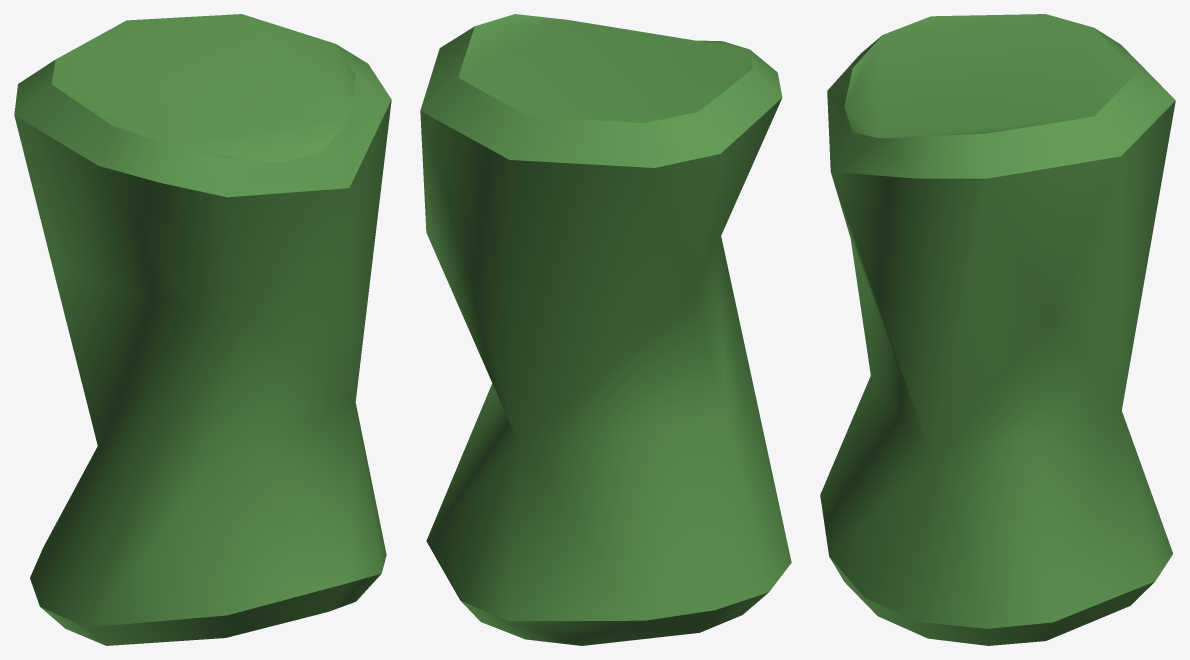
The model's file is cola 2 lod1.FBX.
The picture shows the model from 3 angles, left to right: view 1: azimuth 30°, elevation 25°; view 2: azimuth 150°, elevation 25°; view 3: azimuth 270°, elevation 25°; orthographic projection. The views are drawn at different scales.
Parts seen in each view (by area): view 1: Object339; view 2: Object339; view 3: Object339.
Part boxes in pixels (x1,y1,x2,y2): Object339: [14, 14, 391, 645]; Object339: [420, 14, 791, 645]; Object339: [820, 14, 1175, 645].
Size of the model in its own units: 0.1192 by 0.1805 by 0.114.
